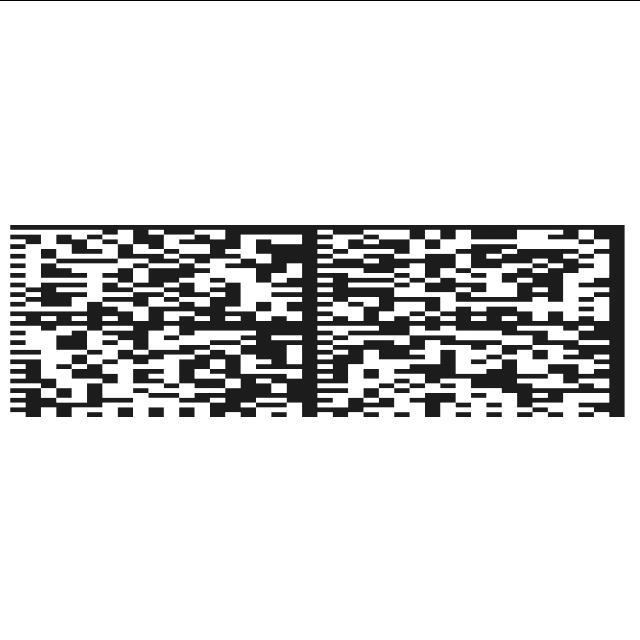Data-Matrix: (5, 221, 640, 421)
